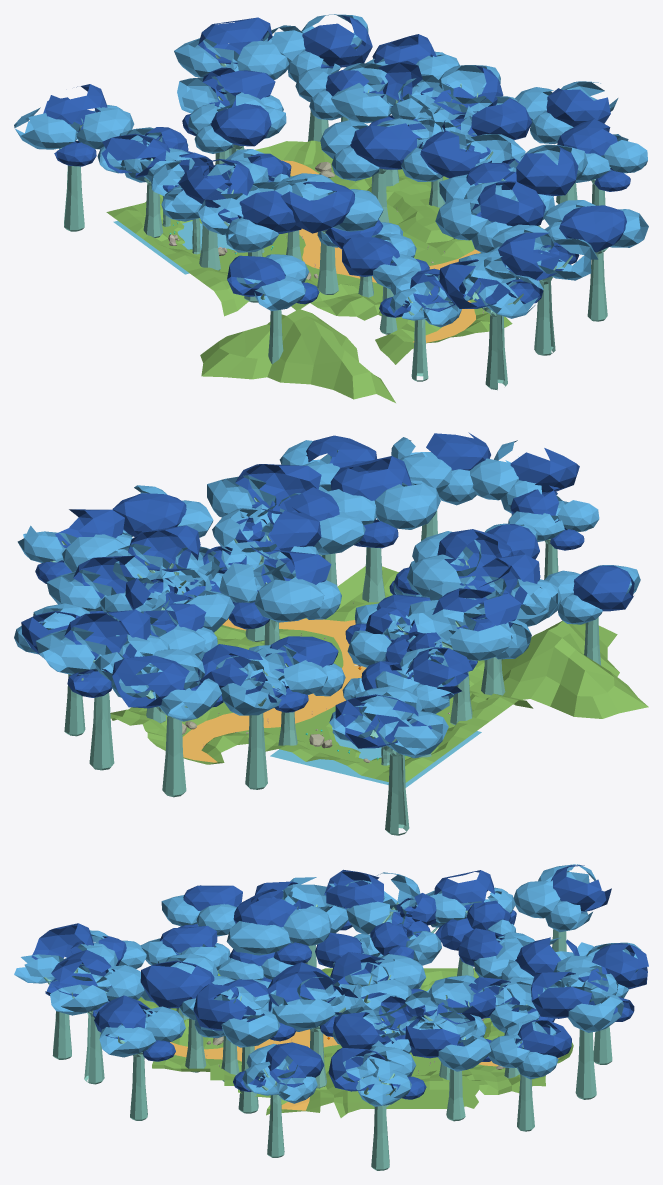
File: forest.fbx
The picture shows the model from 3 angles, top to bottom: view 1: azimuth 30°, elevation 25°; view 2: azimuth 150°, elevation 25°; view 3: azimuth 270°, elevation 25°; orthographic projection. The views are drawn at different scales.
Parts seen in each view (by area): view 1: Plane.006, trunk.006, trunk.010, trunk.031, trunk.008, trunk.033, trunk.026, trunk.015, trunk.029, trunk.020, trunk.016, trunk.004 (+22 smaller); view 2: Plane.006, trunk.016, trunk.029, trunk.006, trunk.020, trunk.033, trunk.015, trunk.023, trunk.008, trunk.004, trunk.028, trunk.027 (+22 smaller); view 3: Plane.006, trunk.026, trunk.016, trunk.021, trunk.008, trunk.031, trunk.028, trunk.011, trunk.006, trunk.014, trunk.027, trunk.002 (+22 smaller).
Part boxes in pixels (<box>): Plane.006: <box>106,140,540,402</box>; trunk.006: <box>14,84,134,231</box>; trunk.010: <box>437,252,543,390</box>; trunk.031: <box>484,224,598,355</box>; trunk.008: <box>273,173,383,294</box>; trunk.033: <box>320,118,424,222</box>; trunk.026: <box>544,200,648,321</box>; trunk.015: <box>151,159,268,270</box>; trunk.029: <box>435,180,545,253</box>; trunk.020: <box>174,17,289,155</box>; trunk.016: <box>263,14,372,141</box>; trunk.004: <box>198,181,302,302</box>; Plane.006: <box>110,566,648,782</box>; trunk.016: <box>35,610,169,770</box>; trunk.029: <box>325,456,440,602</box>; trunk.006: <box>329,686,448,835</box>; trunk.020: <box>111,649,223,797</box>; trunk.033: <box>219,550,341,645</box>; trunk.015: <box>408,588,531,725</box>; trunk.023: <box>198,644,308,789</box>; trunk.008: <box>394,529,513,609</box>; trunk.004: <box>428,554,561,695</box>; trunk.028: <box>202,507,321,641</box>; trunk.027: <box>207,464,321,542</box>; Plane.006: <box>137,968,573,1117</box>; trunk.026: <box>94,995,185,1120</box>; trunk.016: <box>531,967,634,1099</box>; trunk.021: <box>328,1046,426,1170</box>; trunk.008: <box>226,888,331,964</box>; trunk.031: <box>50,950,144,1084</box>; trunk.028: <box>267,962,365,1088</box>; trunk.011: <box>233,1042,324,1157</box>; trunk.006: <box>513,864,611,951</box>; trunk.014: <box>488,1019,571,1131</box>; trunk.027: <box>193,984,296,1113</box>; trunk.002: <box>405,1011,491,1121</box>.
Size of what is drawn, in the model's own units: 31581 by 9442 by 37528.
